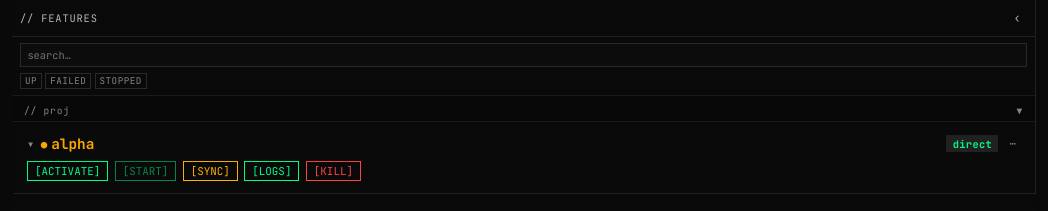
it: FeatureList — search and status-chip filter › shows a no-match empty state when filters exclude all features
Step 1. Type "zzz-no-match" into the field named "Search features" → (524, 55), box x1=20 y1=43 x2=1027 y2=67
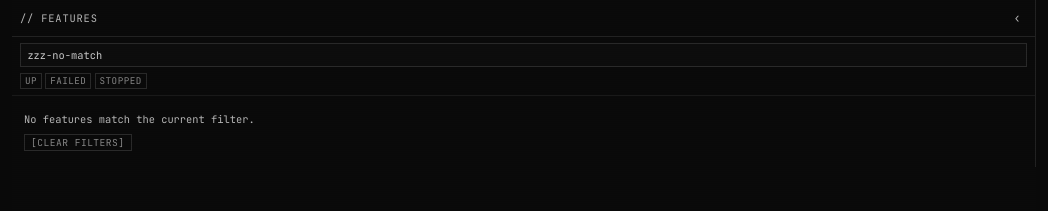
Now the text "No features match the current filter." is shown, box x1=24 y1=112 x2=255 y2=126
Now the button "[CLEAR FILTERS]" is shown, box x1=24 y1=134 x2=132 y2=151
